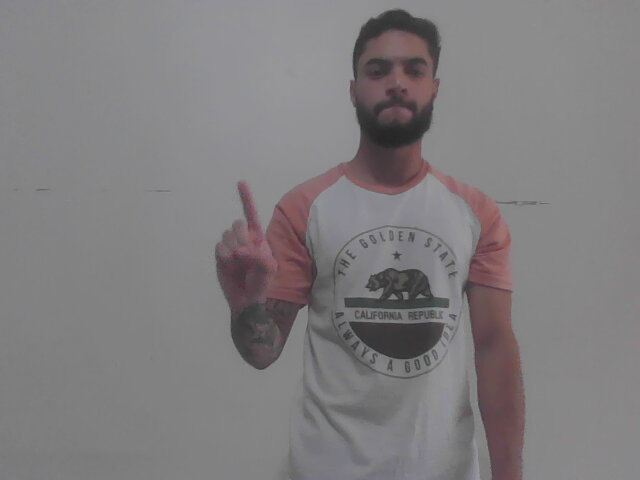z: (206, 176, 282, 312)
